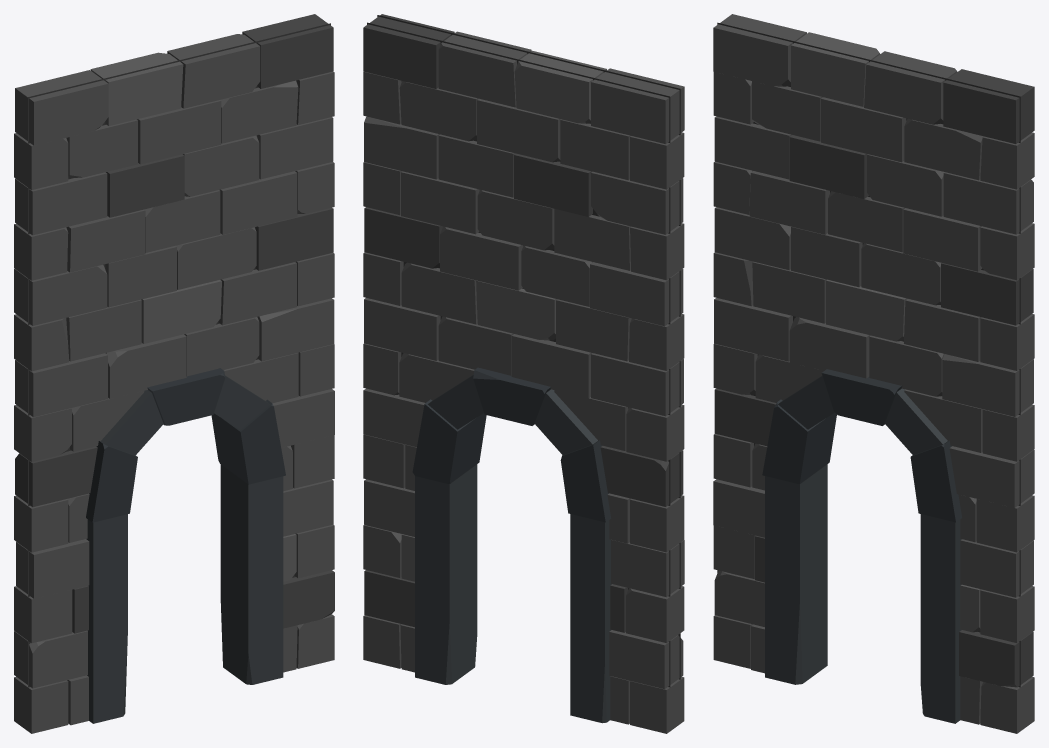
The model's file is CastleWall_03.glb.
The picture shows the model from 3 angles, left to right: view 1: azimuth 30°, elevation 25°; view 2: azimuth 150°, elevation 25°; view 3: azimuth 330°, elevation 25°; orthographic projection.
Parts seen in each view (by area): view 1: CastleWall_03_LOD0; view 2: CastleWall_03_LOD0; view 3: CastleWall_03_LOD0.
Boxes of the visible parts, box(x1,y1,x2,y2) form: CastleWall_03_LOD0: box(14, 14, 334, 733); CastleWall_03_LOD0: box(363, 14, 684, 733); CastleWall_03_LOD0: box(713, 14, 1034, 733).
Size of what is drawn, in the model's own units: 2.5 by 5 by 0.4392.
1 material, 1 textured.
